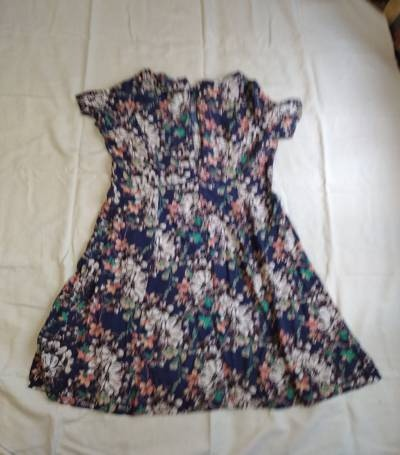Dress: (17, 59, 375, 419)
